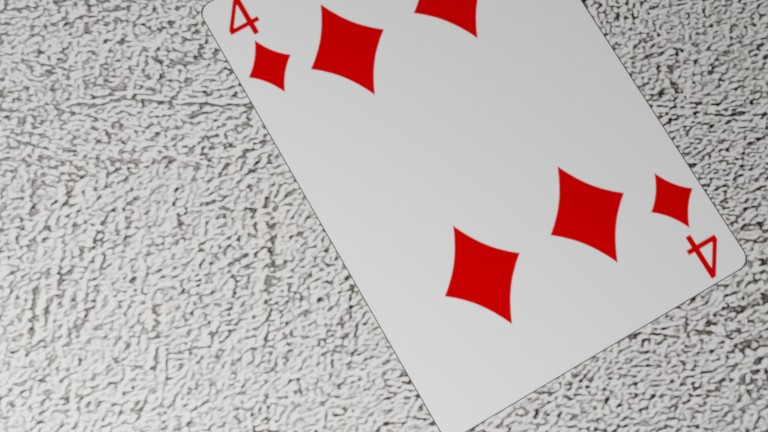4_of_diamonds: (625, 157, 744, 289), (205, 0, 315, 108)
